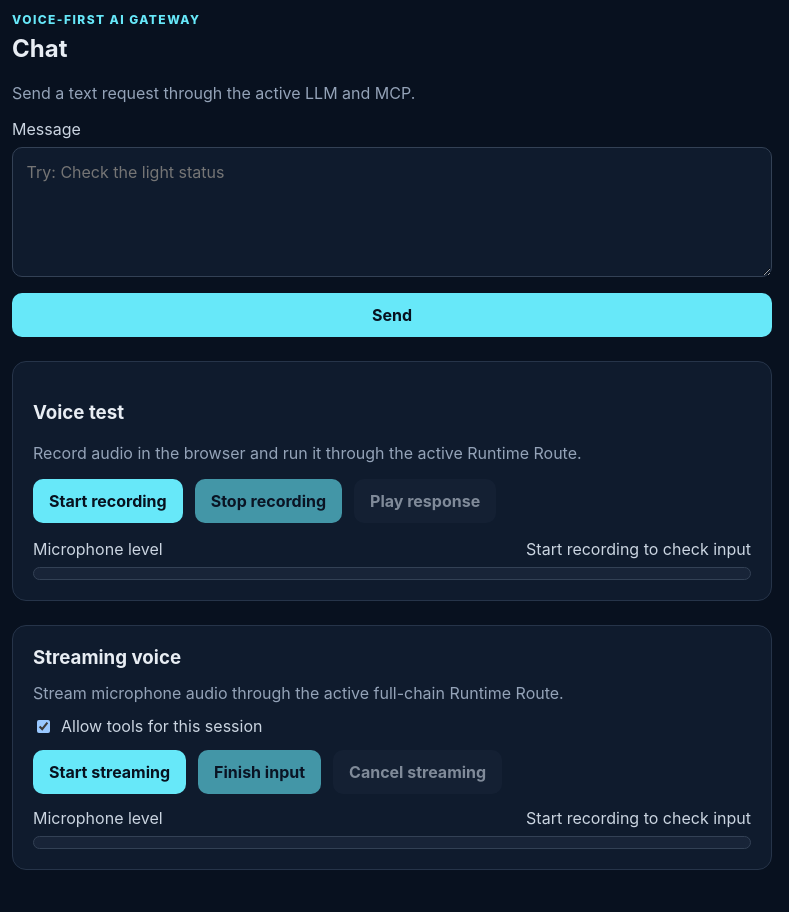
Test case: ChatPage › reports when completion wins the cancellation race
Type "Check the light status" into the text box labelled "Message" at (392, 212), box [12,147,772,277]
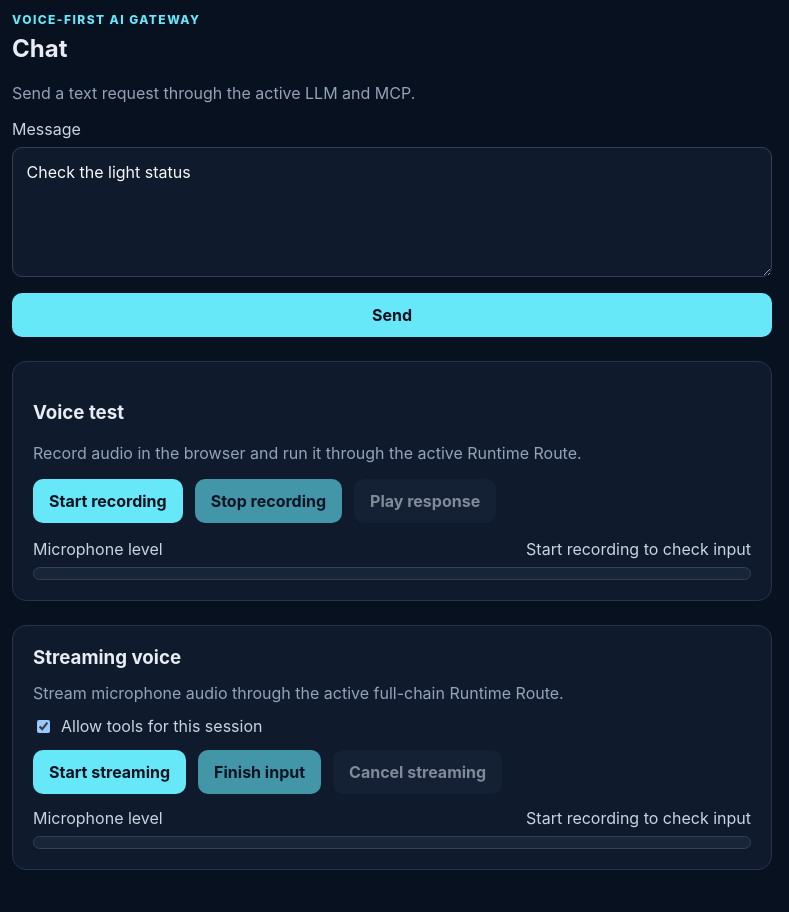
Click the button "Send" at (392, 315), box [12,293,772,337]
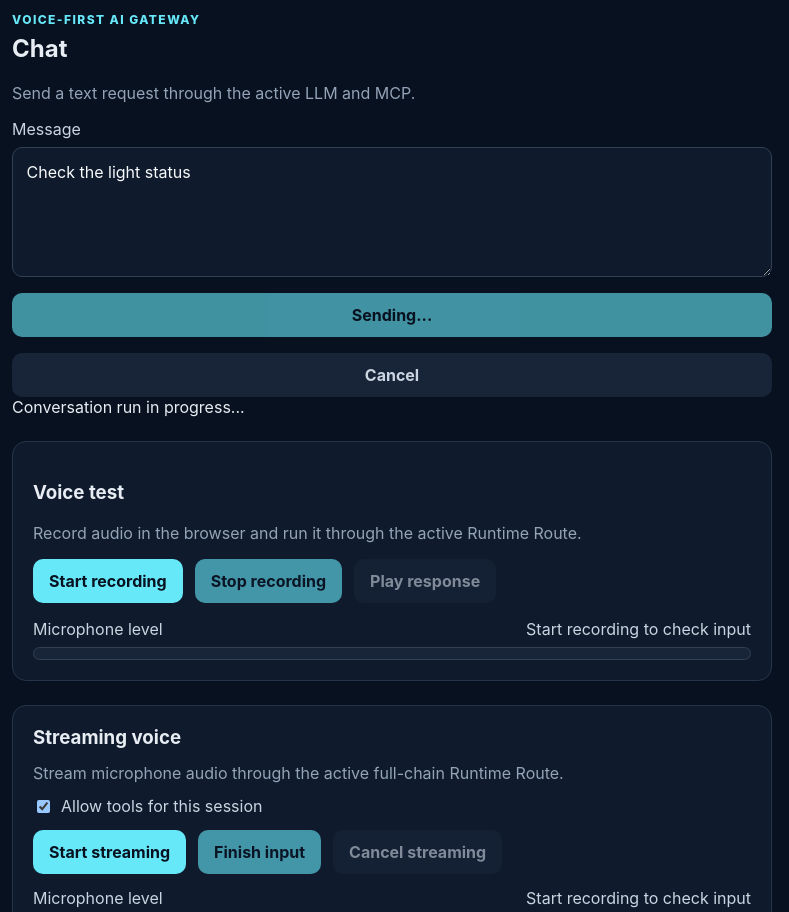
Click the button "Cancel" at (392, 375), box [12,353,772,397]
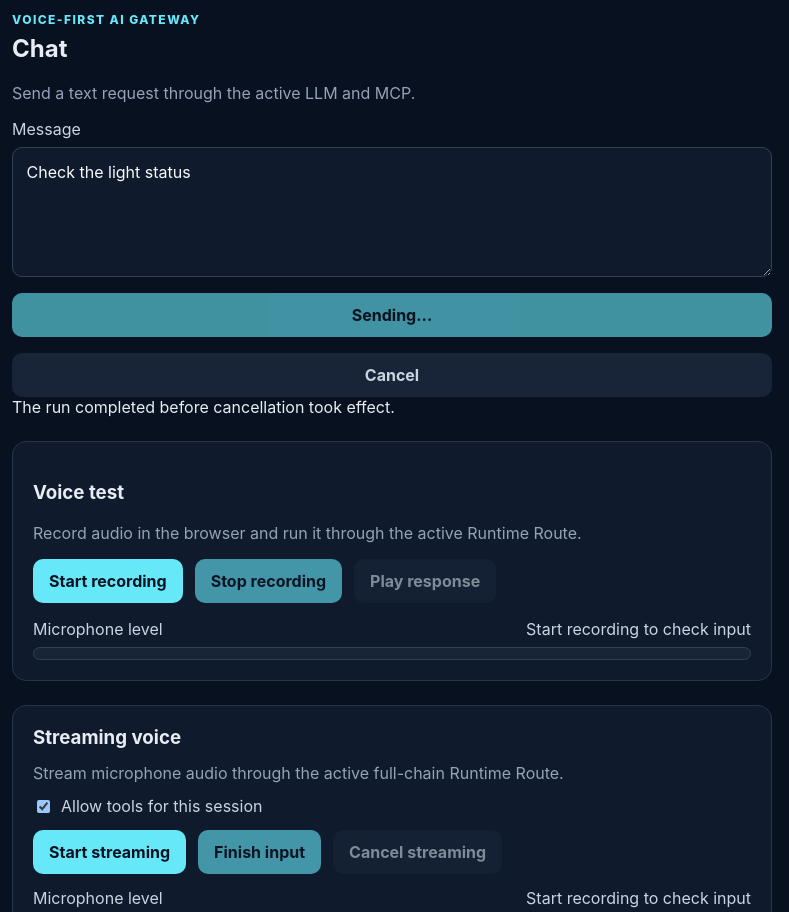
expect the text "The run completed before cancellation took effect." is shown: met, box [12,397,395,417]
